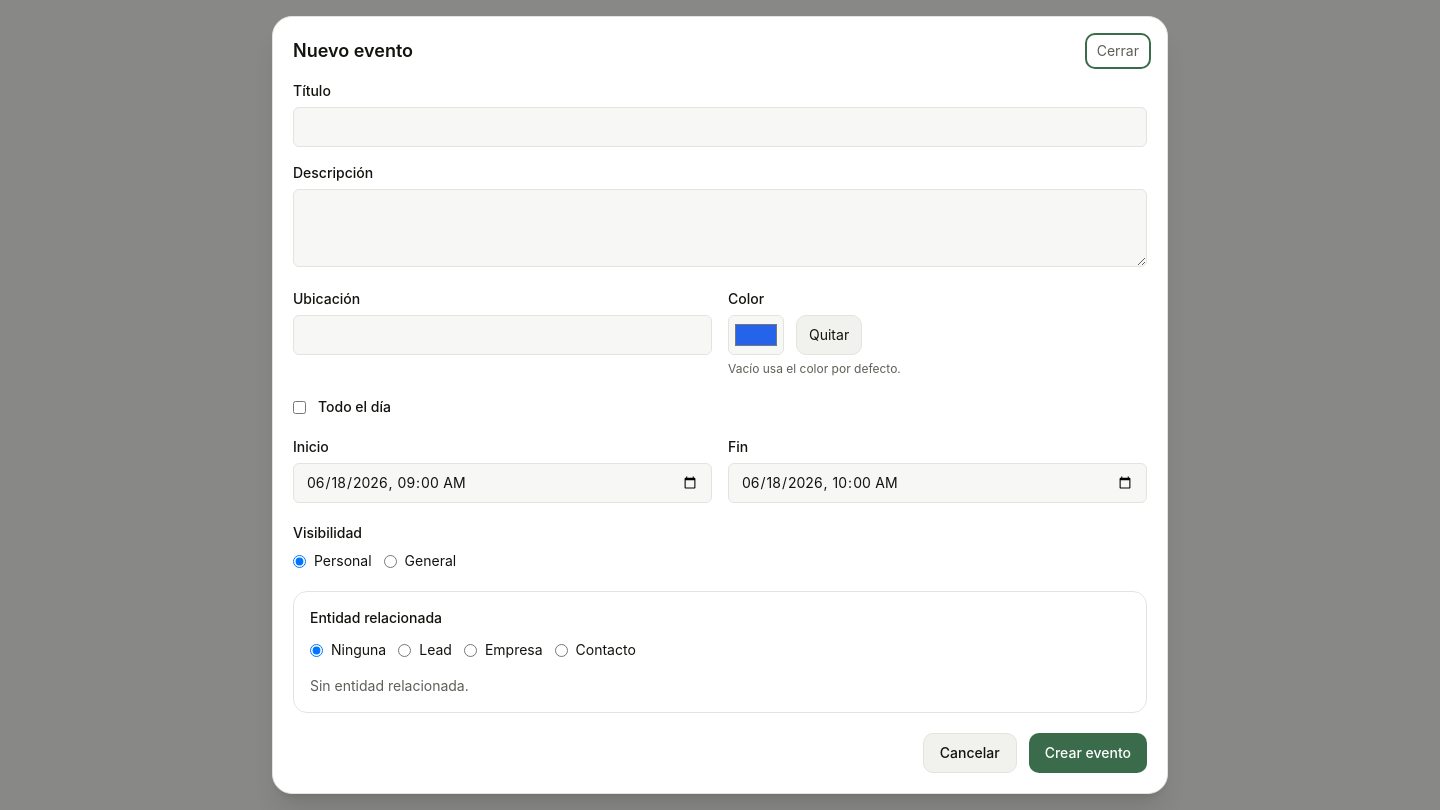
Test: CalendarEventDialog › muestra error de validación cuando fin es anterior al inicio
The width and height of the screenshot is (1440, 810).
Type "Reunión" into the field labelled "Título".
click(720, 127); type("Reunión")  # box [293,107,1147,147]
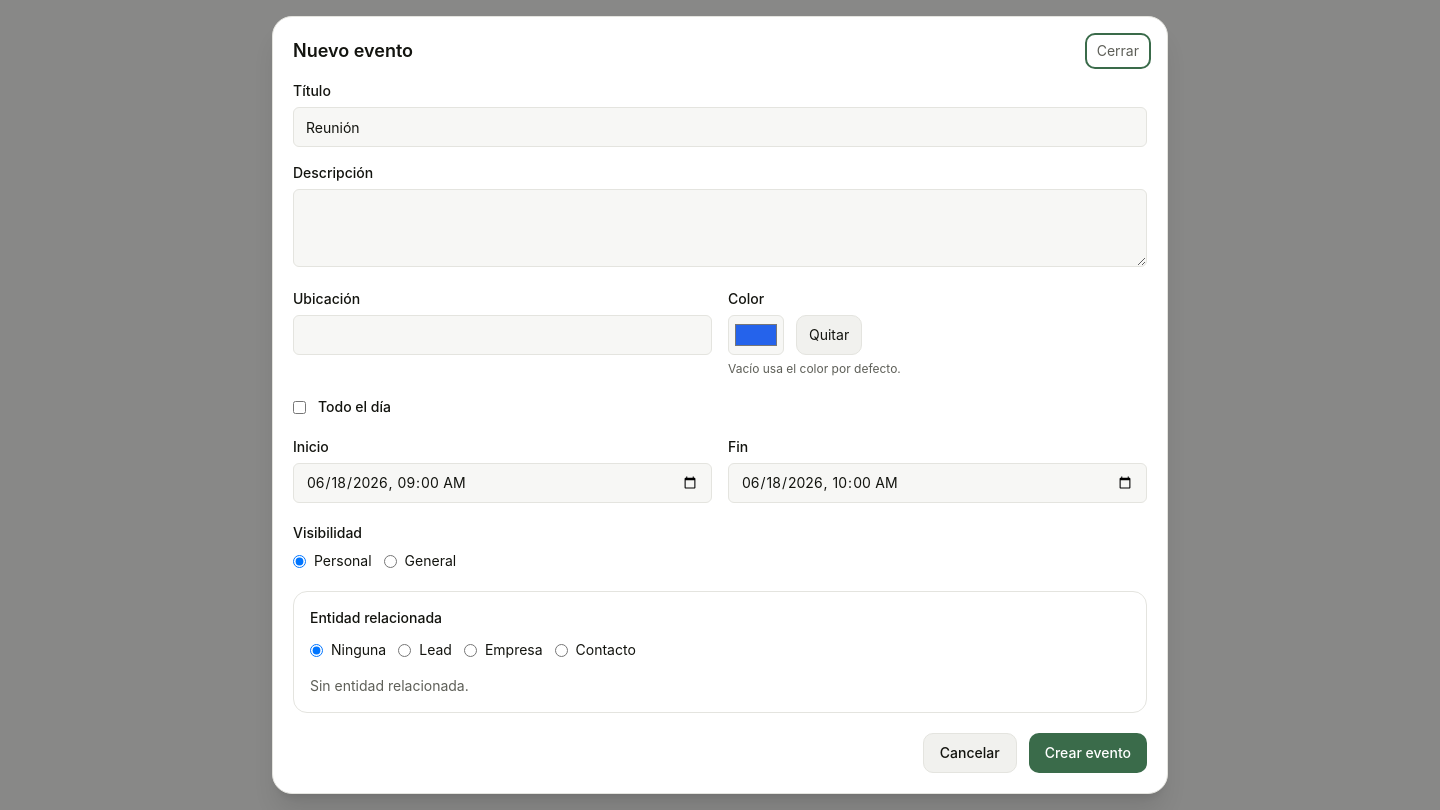
Replace the text in the field labelled "Inicio" with "2026-05-10T11:00" at (502, 483), box [293,463,712,503]
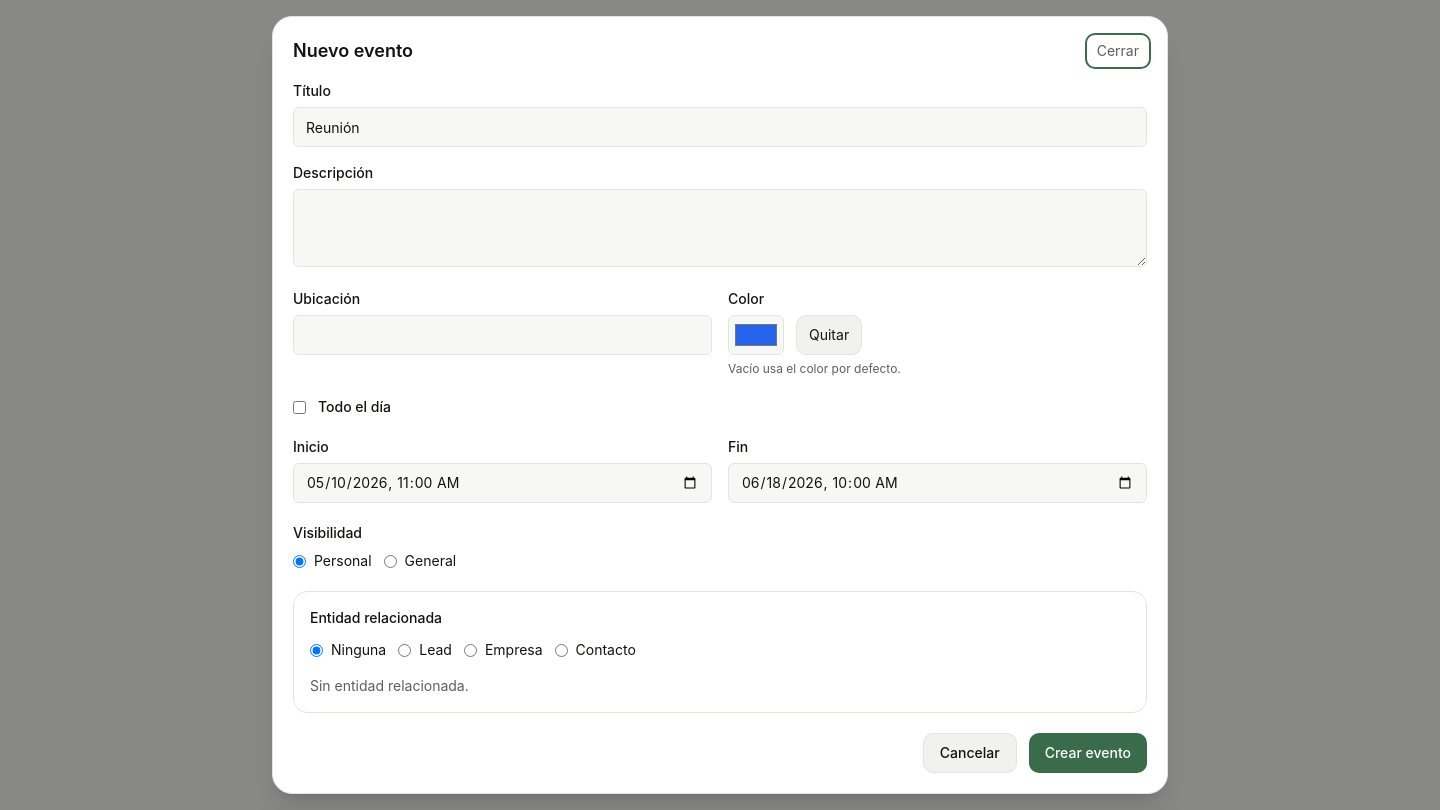
Replace the text in the field labelled "Fin" with "2026-05-10T10:00" at (938, 483), box [728,463,1147,503]
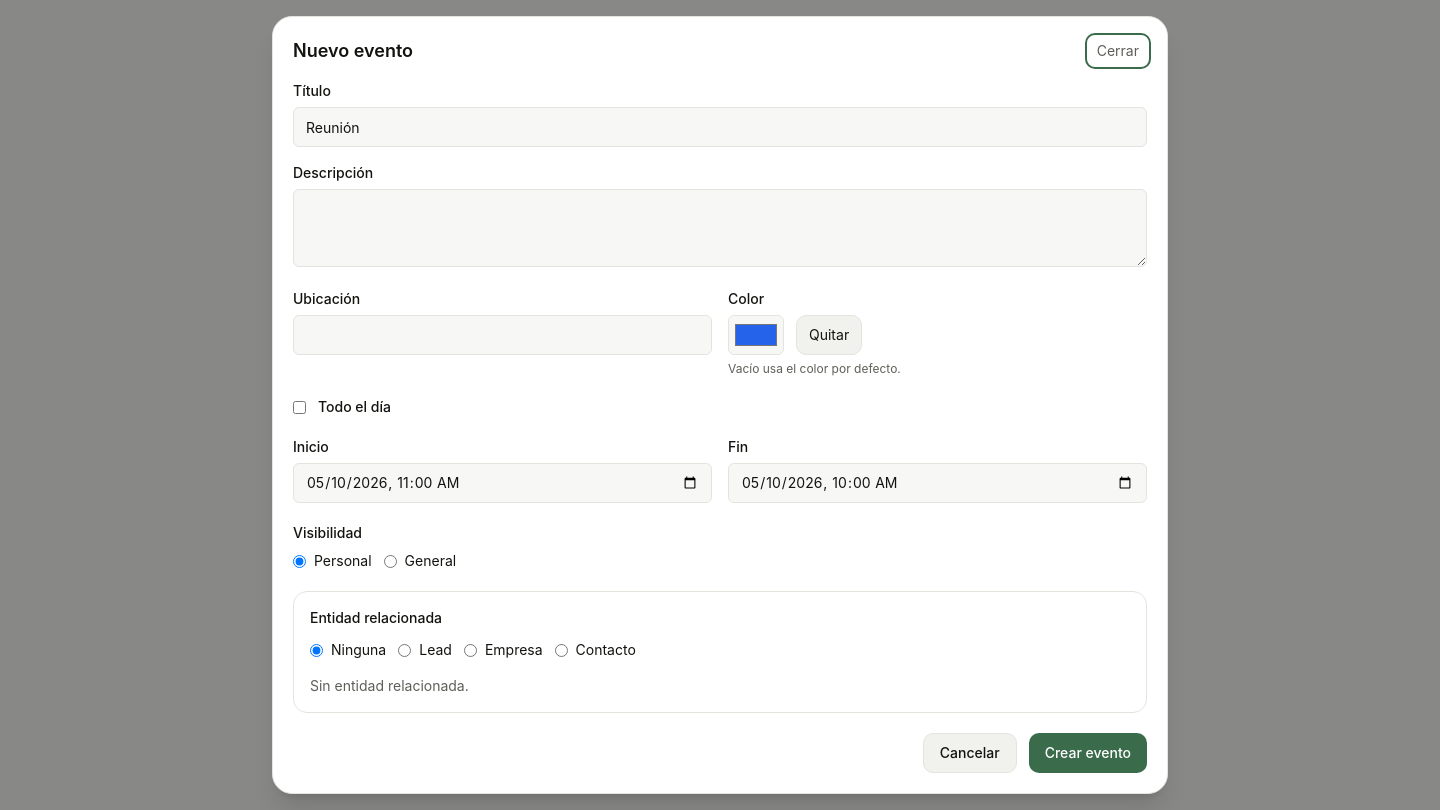
Click the button "Crear evento".
click(1088, 753)  # box [1029,733,1147,773]
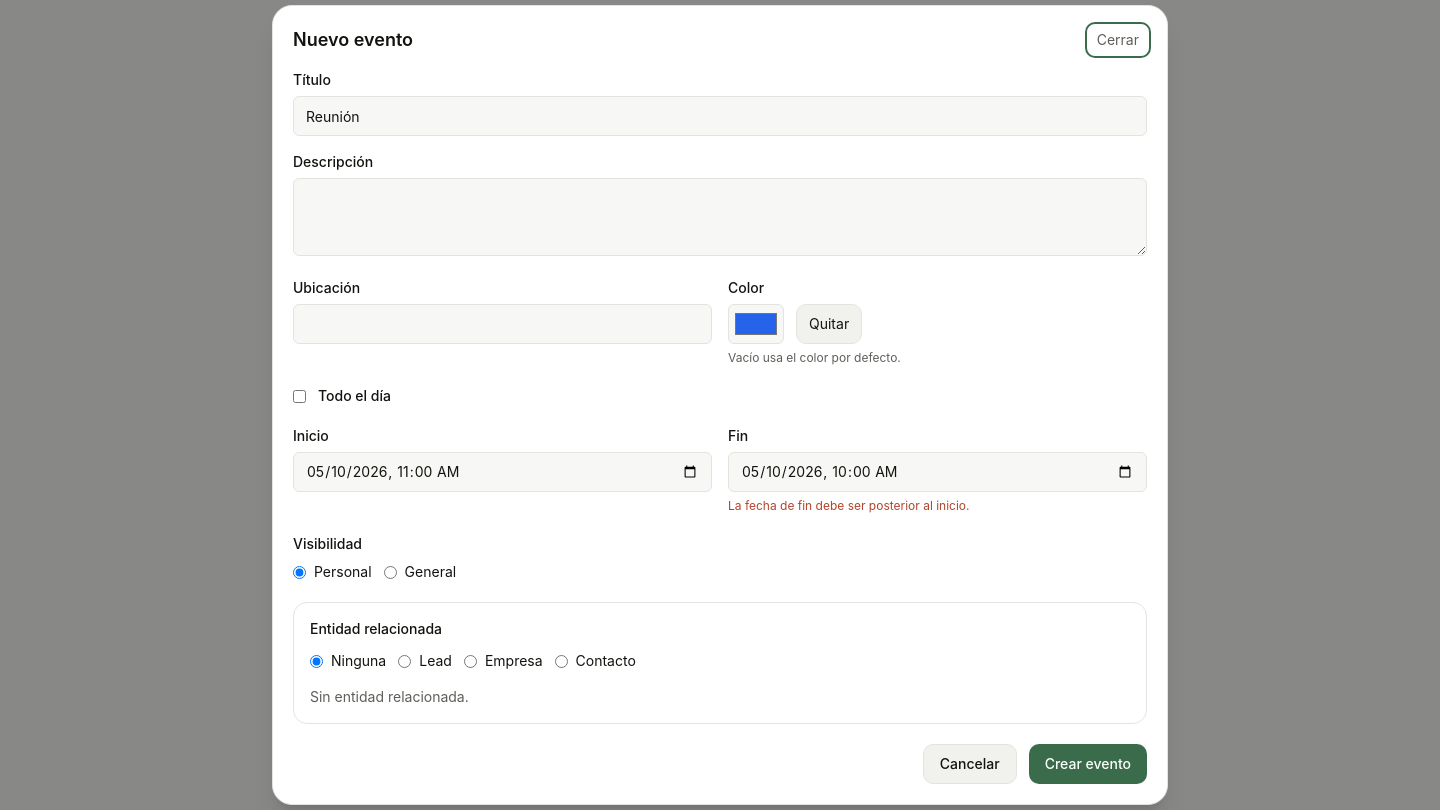
Expected: the text "La fecha de fin debe ser posterior al inicio." is shown, [728,498,970,513]
